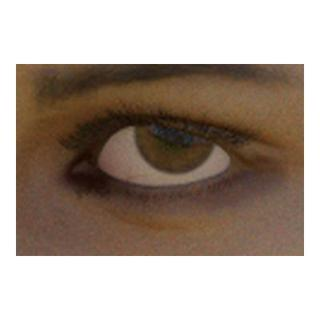pupil: (157, 115, 193, 151)
